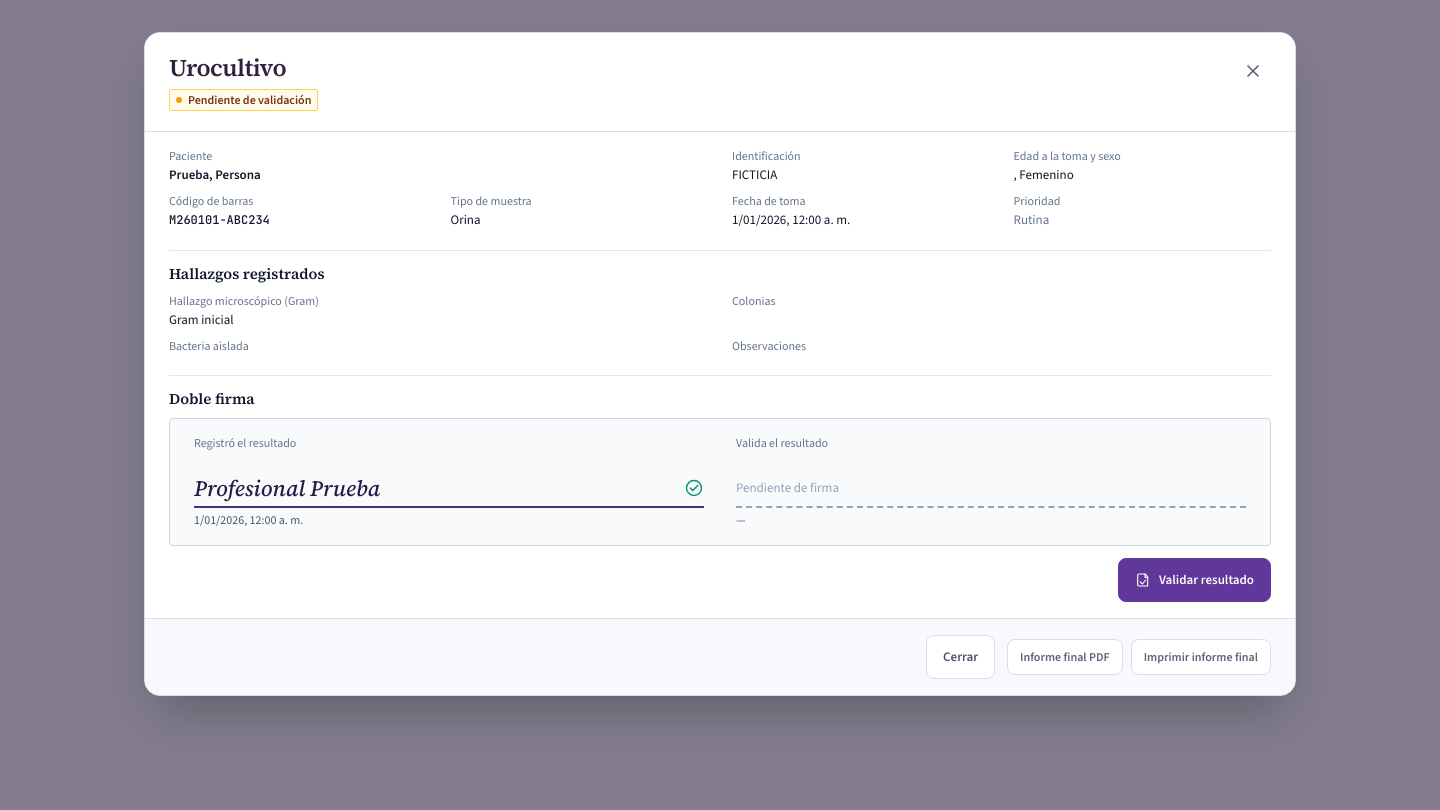
Test: si falla la recarga tras conflicto no permite firmar la copia antigua
Click the button "Validar resultado".
click(1194, 580)  # box [1118, 558, 1271, 602]
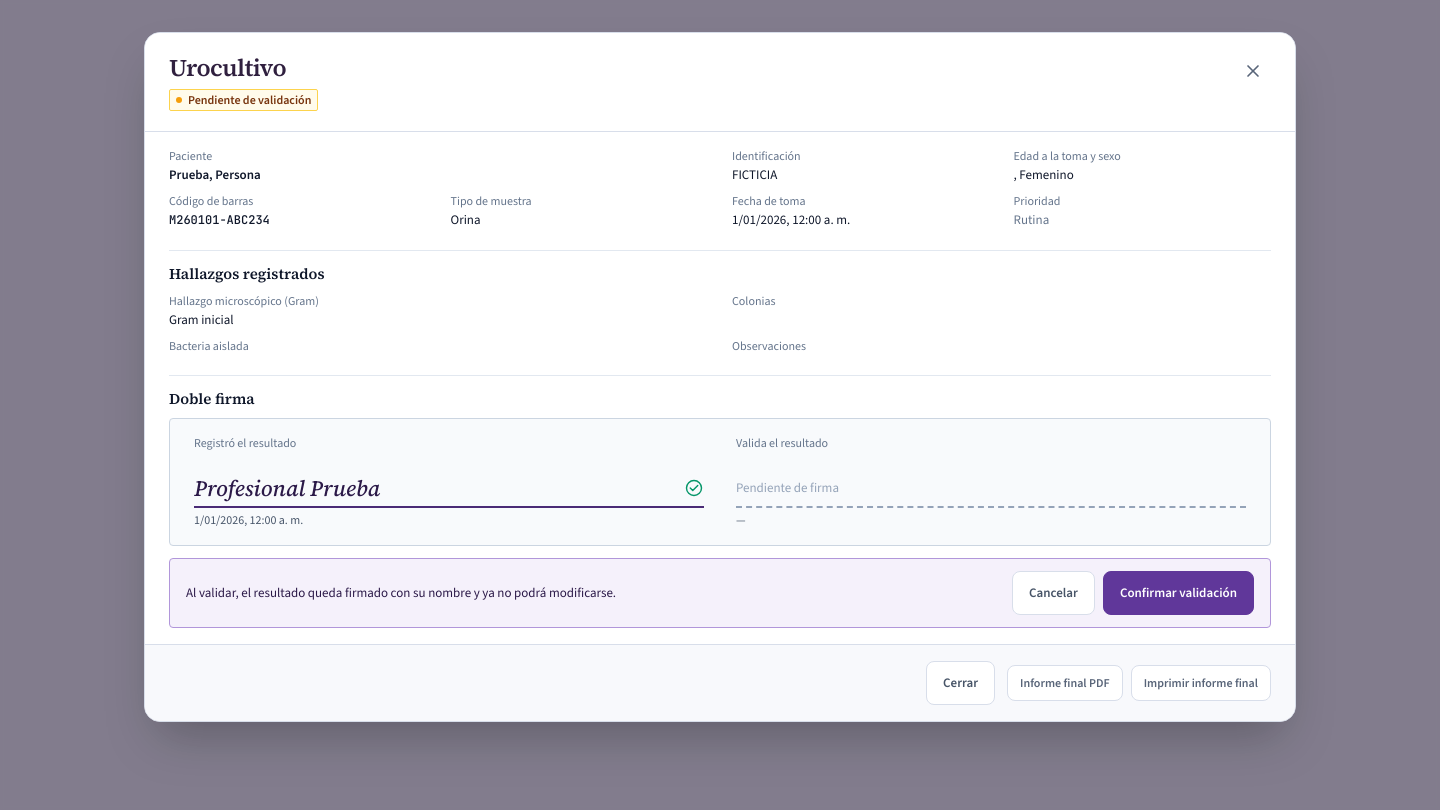
Click the button "Confirmar validación".
click(1178, 593)  # box [1103, 571, 1254, 615]
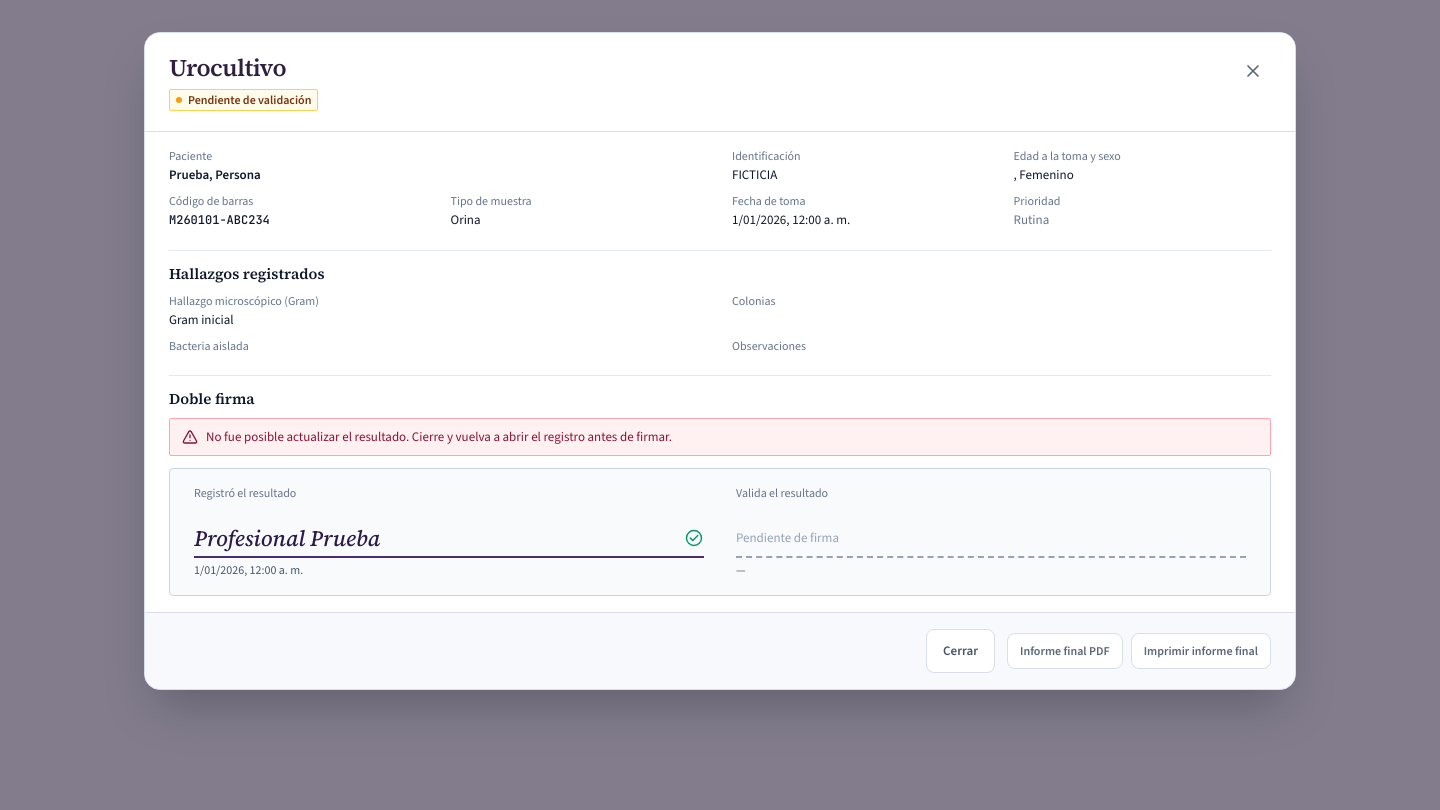
Expected: the button "Validar resultado" is not shown
Result: the message shows "Cierre y vuelva a abrir" at [206, 428, 672, 445]
